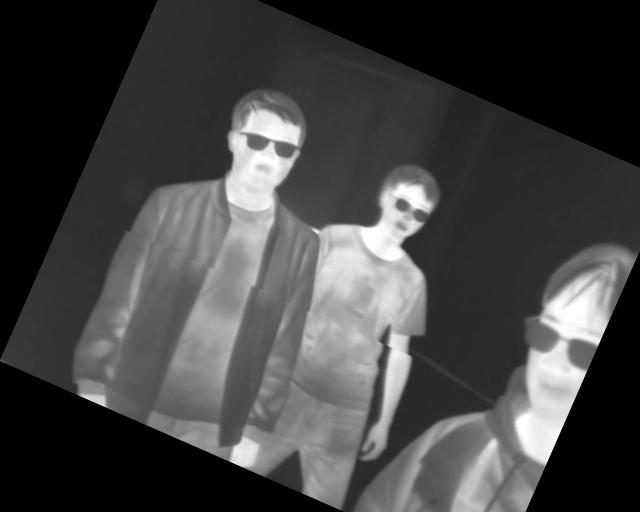face: (497, 222, 638, 422), (205, 76, 321, 205), (361, 153, 451, 253)
